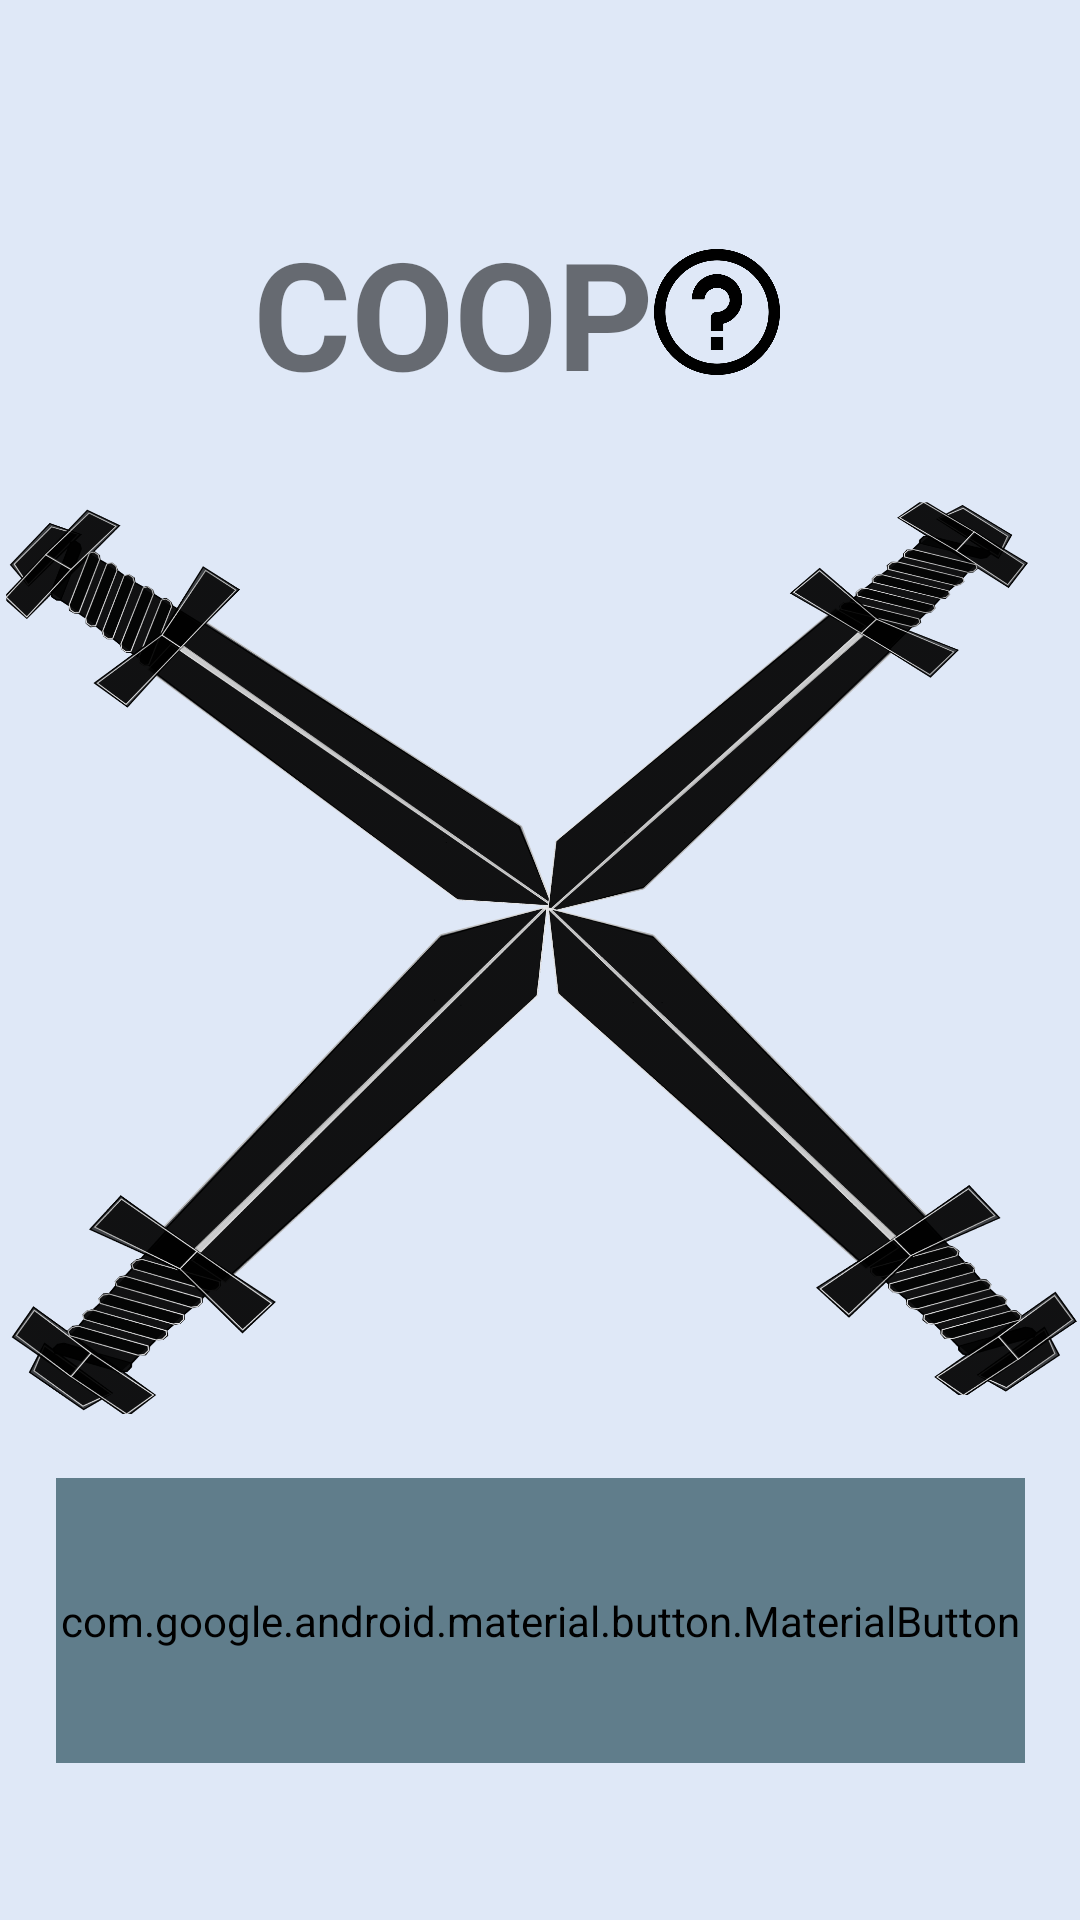

Screen size 1080px x 1920px. Icon name, then its box in pixels as (x1, y1, x2, y2):
help: (654, 249, 780, 375)
